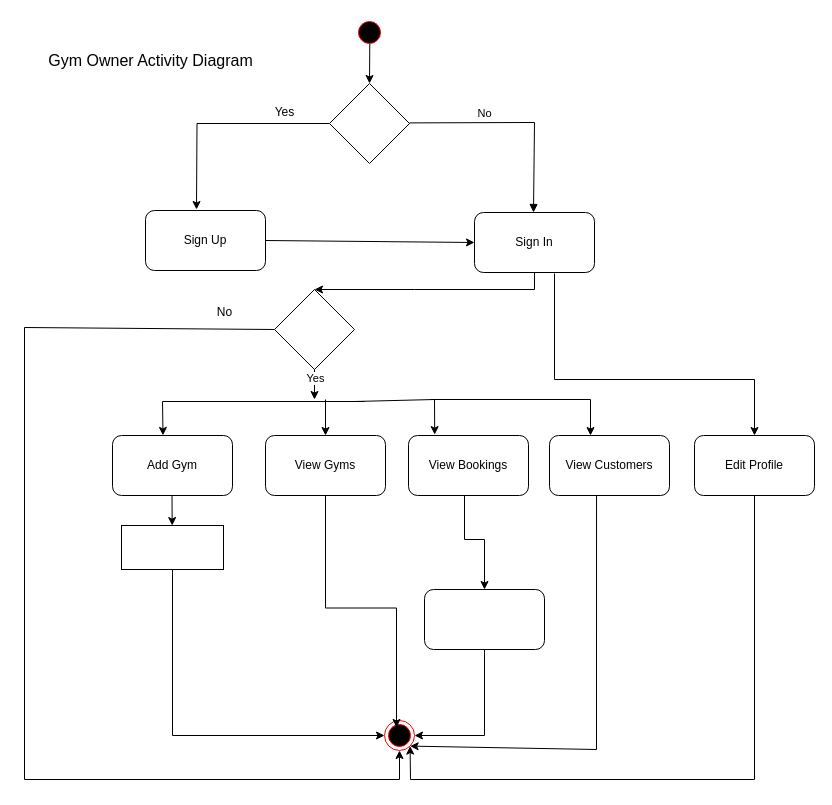
The diagram is 832 pixels wide and 805 high, and some of its shapes have lost their labels. Here are the shapes that lost their labels. From the top down, the centre of each, then its label:
the point at 369,123: New Gym Owner?
the point at 314,329: Approved?
the point at 172,547: Enter Gym details
the point at 484,619: Enter Gym Id
